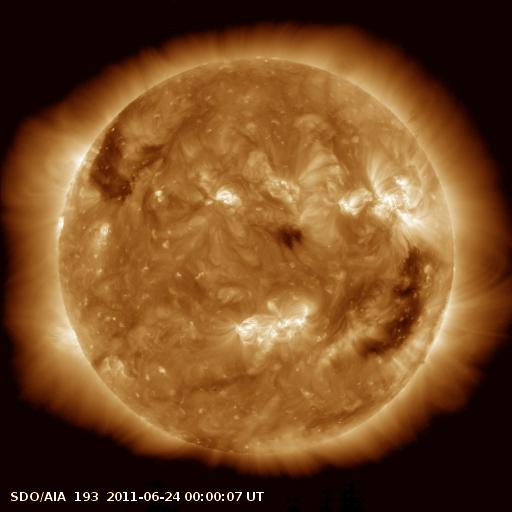coronal_hole: (355, 248, 435, 362), (89, 118, 138, 204), (267, 216, 315, 259)
